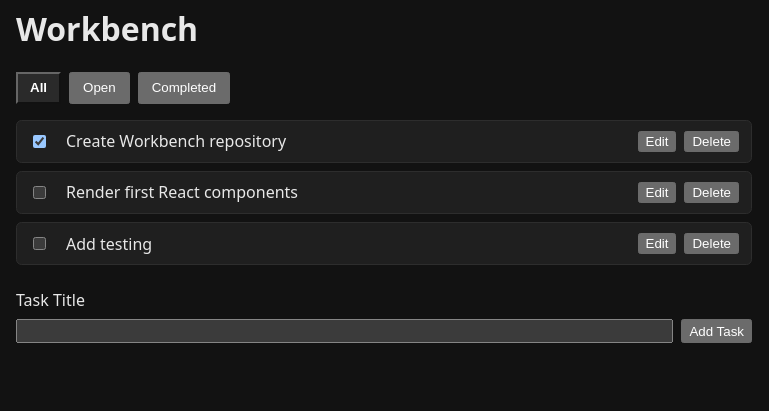
it: adds a new task when the user submits a title
Type "Write first TDD feature" into the field labelled "Task Title" at (345, 331), box [16,319,673,343]
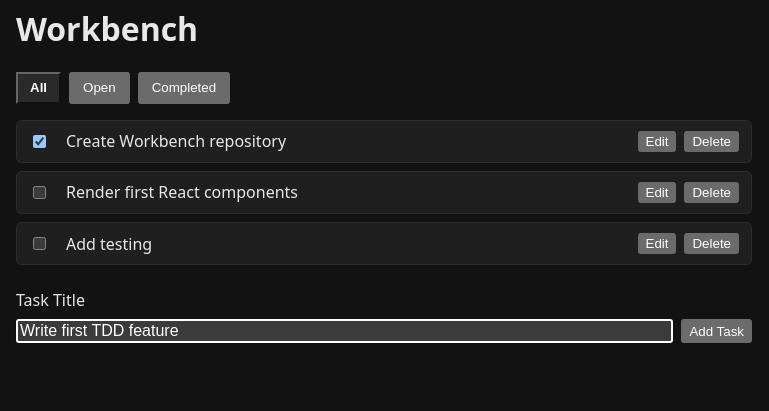
Click the button "Add Task" at (717, 331), box [681,319,752,343]
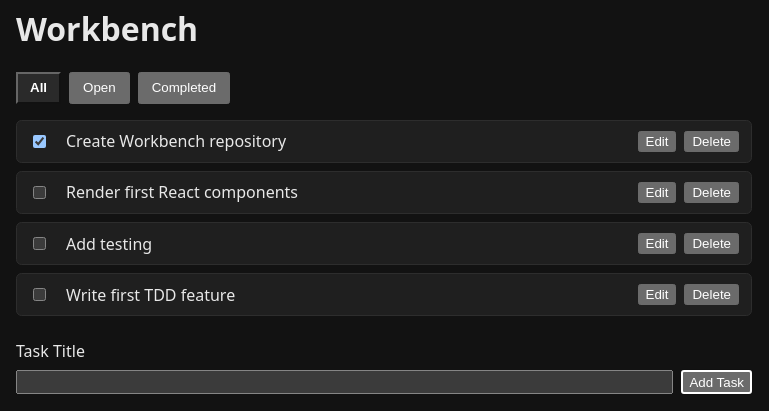
Now the text "Write first TDD feature" is shown, box [66,284,235,306]
